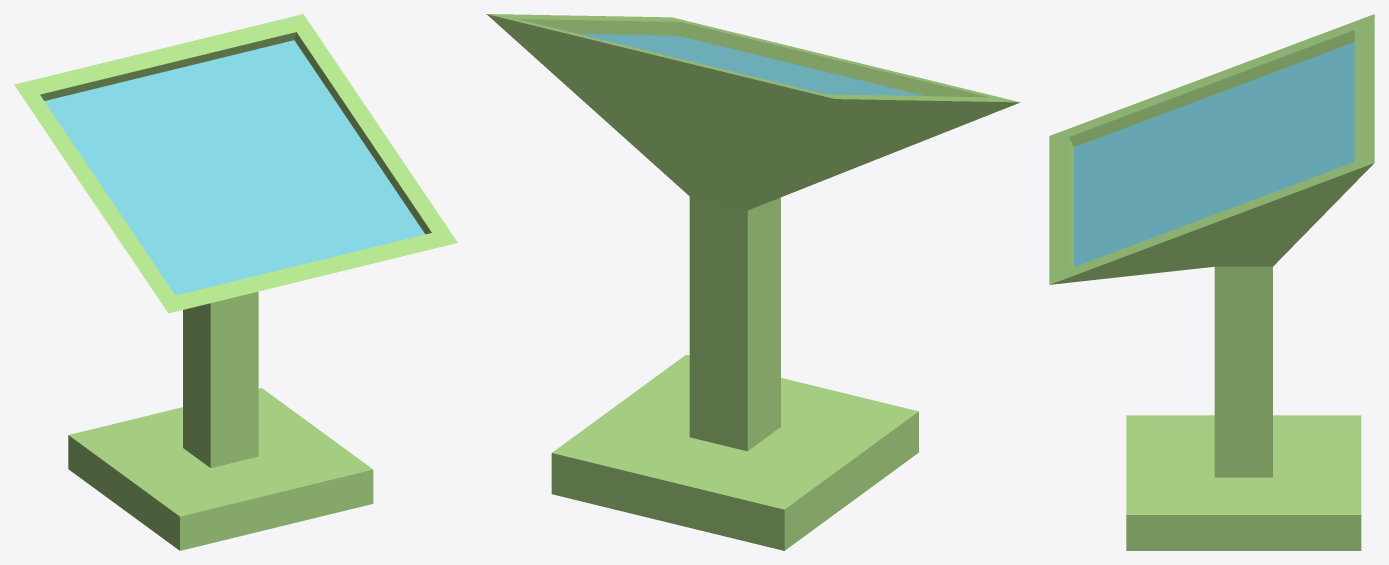
File: Info_Stand.glb
The picture shows the model from 3 angles, left to right: view 1: azimuth 30°, elevation 25°; view 2: azimuth 150°, elevation 25°; view 3: azimuth 270°, elevation 25°; orthographic projection. The views are drawn at different scales.
Parts seen in each view (by area): view 1: Cube; view 2: Cube; view 3: Cube.
Boxes of the visible parts, bbox=[...] form: Cube: bbox=[14, 14, 457, 550]; Cube: bbox=[486, 14, 1020, 550]; Cube: bbox=[1049, 14, 1374, 550].
Bounding box in the file's own units: 0.719 × 0.9298 × 0.6644.
